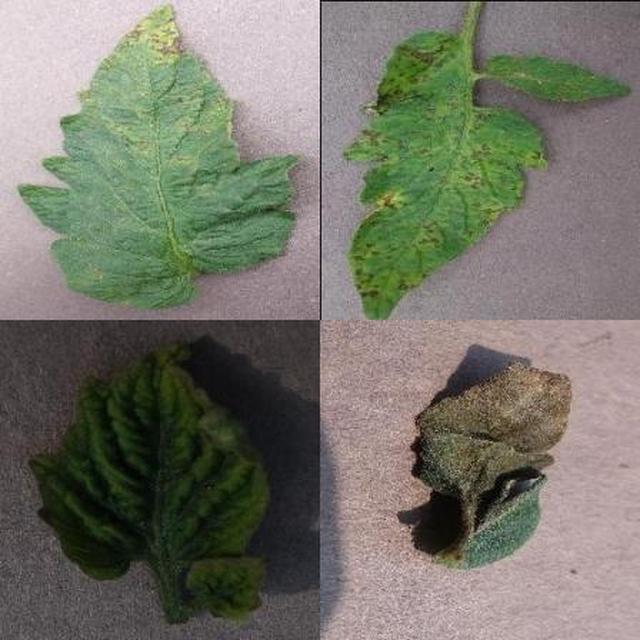Septoria Leaf: (214, 221, 640, 640)
